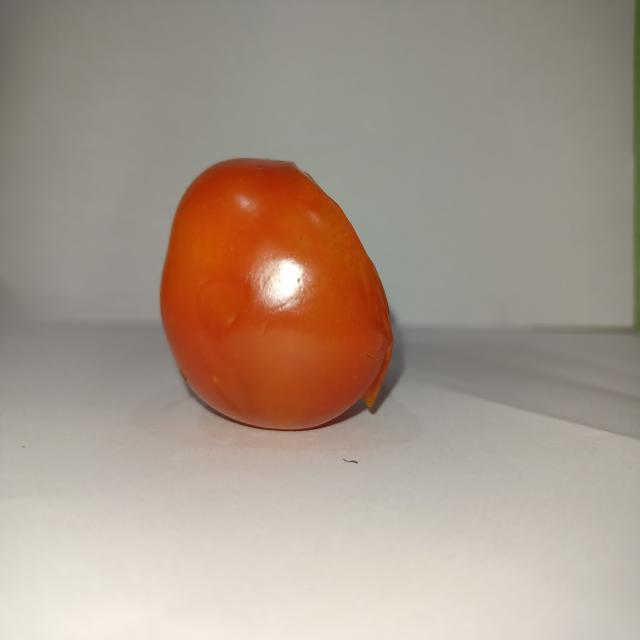Red: (158, 155, 395, 432)
